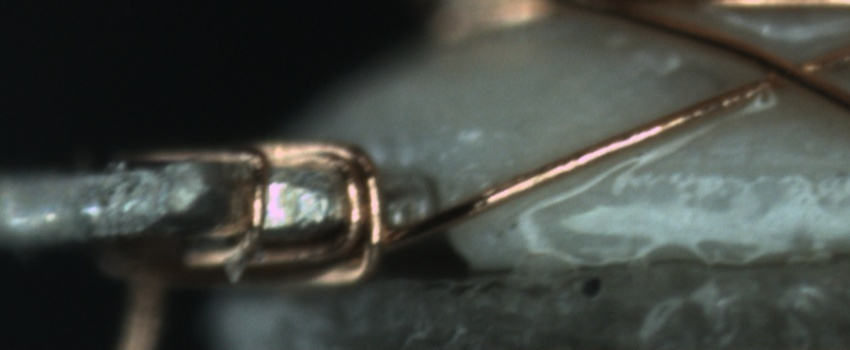CL: (742, 40, 838, 102)
DL: (620, 131, 850, 208)
TE: (130, 106, 385, 285)
